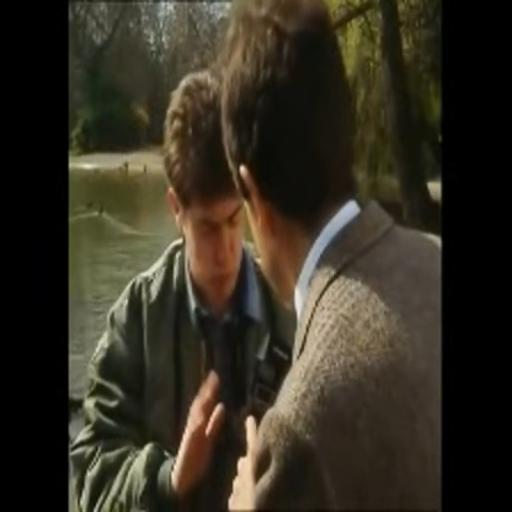nao-violencia: (68, 0, 442, 512)
